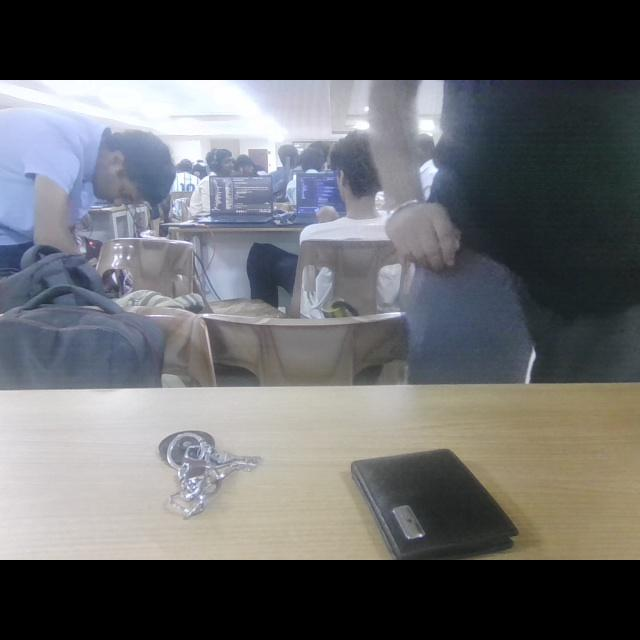keys: (159, 417, 263, 538)
wallet: (344, 432, 528, 560)
